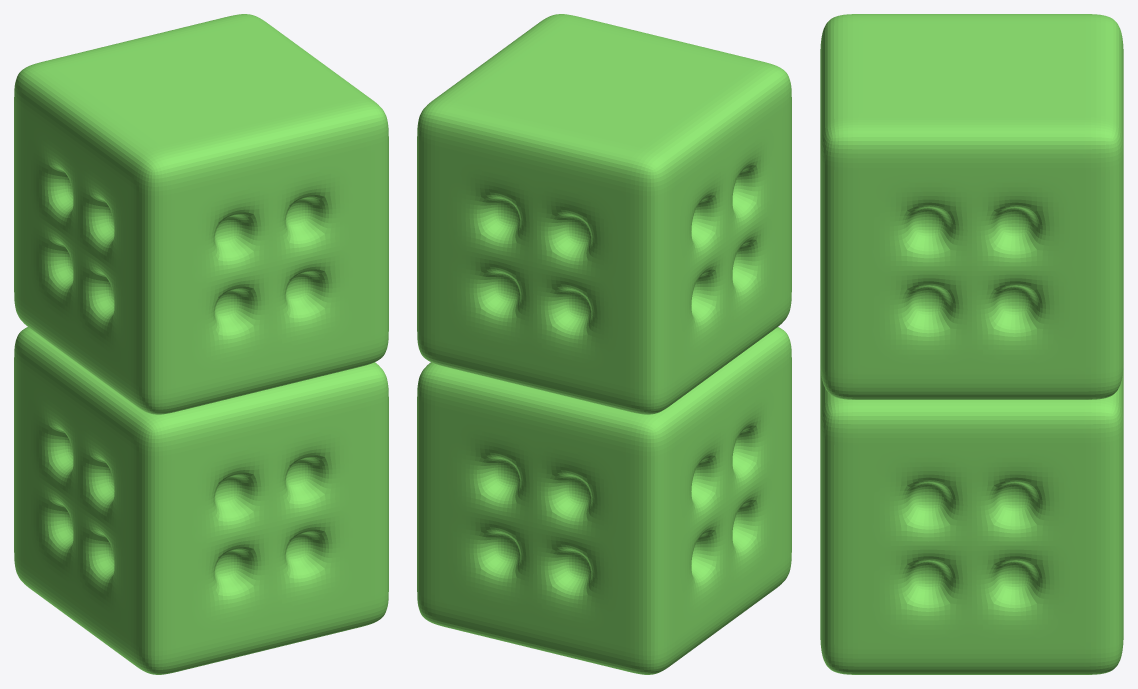
File: green_1.2.1.fbx
3 renders of one model, left to right at view 1: azimuth 30°, elevation 25°; view 2: azimuth 150°, elevation 25°; view 3: azimuth 270°, elevation 25°, orthographic. The views are drawn at different scales.
Visible parts, largest first — view 1: Cube.001; view 2: Cube.001; view 3: Cube.001.
Boxes of the visible parts, <box> form: Cube.001: <box>14,14,388,674</box>; Cube.001: <box>417,14,791,674</box>; Cube.001: <box>820,14,1123,674</box>.
Bounding box in the file's own units: 100 × 200 × 100.
